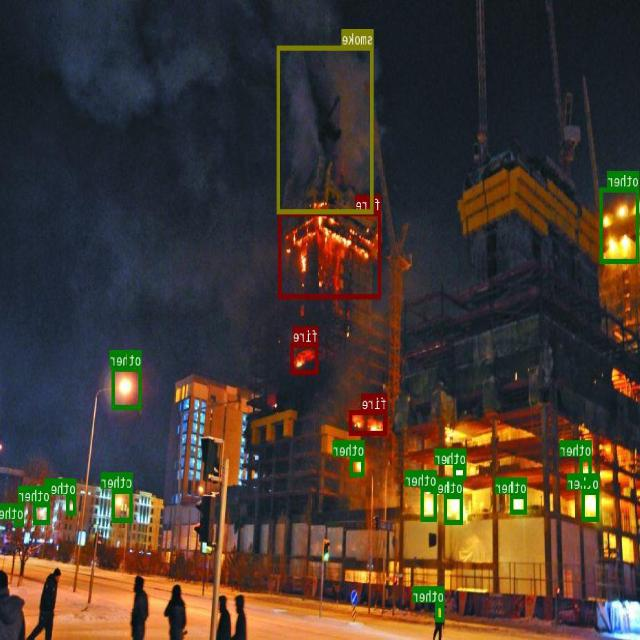fire: (279, 211, 381, 297), (350, 410, 388, 434), (292, 342, 319, 374)
other: (600, 186, 640, 263), (113, 366, 142, 409), (112, 489, 133, 521), (445, 493, 464, 523), (422, 486, 438, 520), (582, 490, 600, 520), (34, 502, 51, 524), (580, 457, 592, 484), (511, 494, 528, 513), (351, 456, 365, 476), (15, 502, 25, 526), (67, 494, 77, 514), (436, 602, 445, 621), (454, 465, 466, 479)
smoke: (278, 45, 374, 212)
